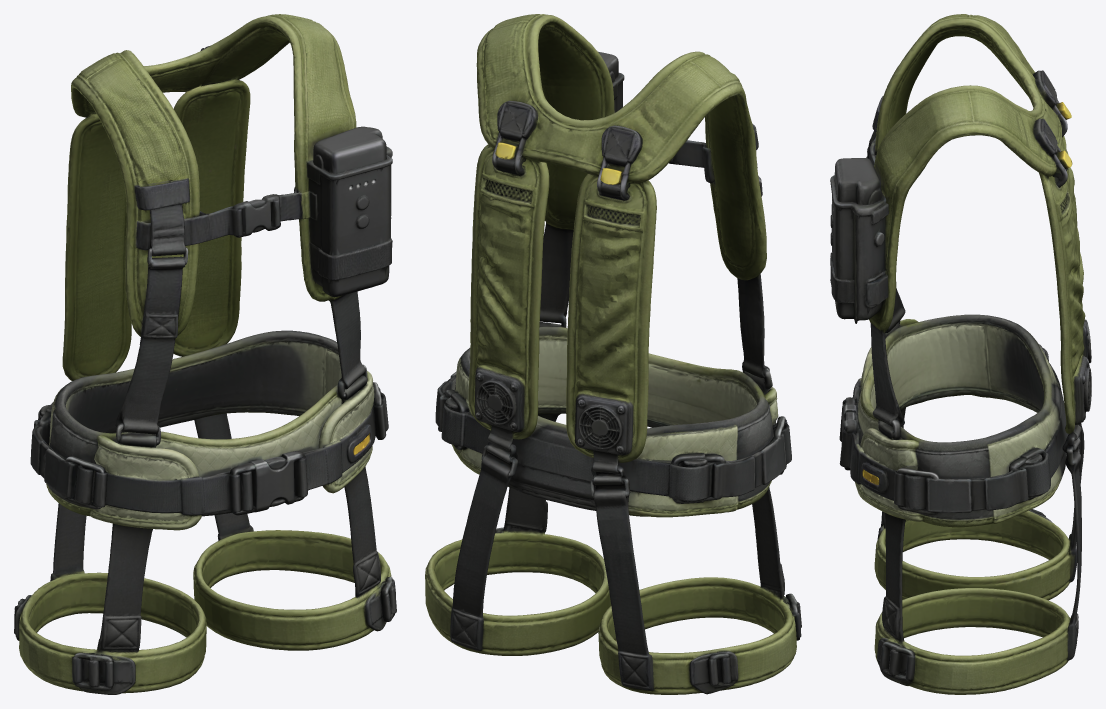
File: GREEN_K-web.glb
3 renders of one model, left to right at view 1: azimuth 30°, elevation 25°; view 2: azimuth 150°, elevation 25°; view 3: azimuth 270°, elevation 25°, orthographic. The views are drawn at different scales.
Parts seen in each view (by area): view 1: harness wearable 3d model; view 2: harness wearable 3d model; view 3: harness wearable 3d model.
Part boxes in pixels (<box>): harness wearable 3d model: <box>14,14,396,694</box>; harness wearable 3d model: <box>425,14,801,694</box>; harness wearable 3d model: <box>830,14,1091,694</box>.
Bounding box in the file's own units: 0.6001 × 0.9808 × 0.4091.
1 material, 1 textured.
